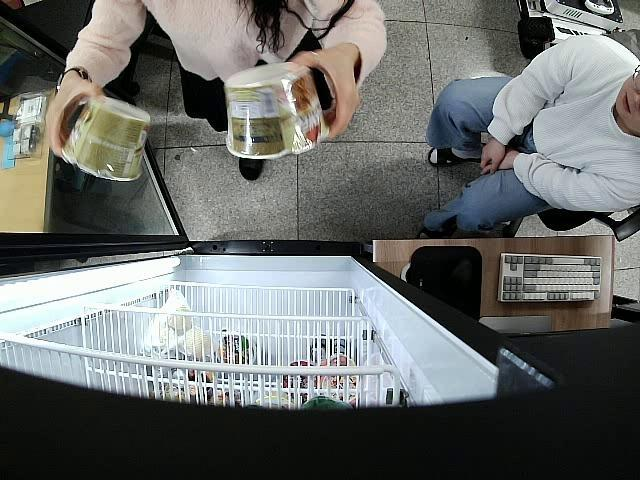03_chapagetti_L: (224, 61, 328, 162), (63, 95, 148, 182)
